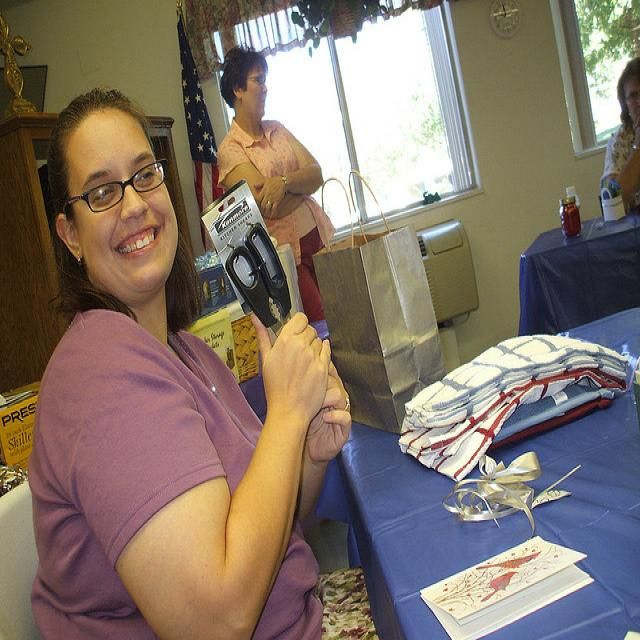chair: (0, 477, 42, 630)
dining table: (342, 308, 640, 630)
